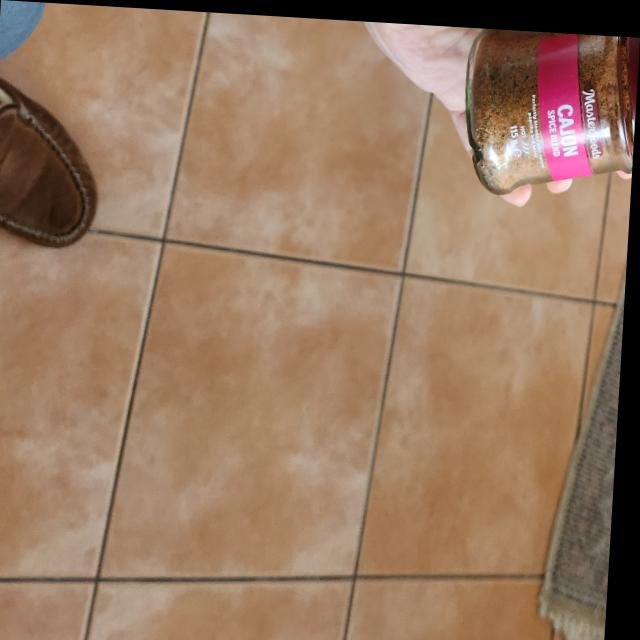cajun: (462, 22, 640, 195)
